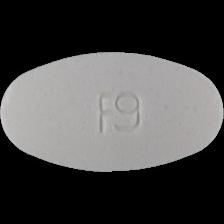16714-632: (0, 0, 224, 224)
